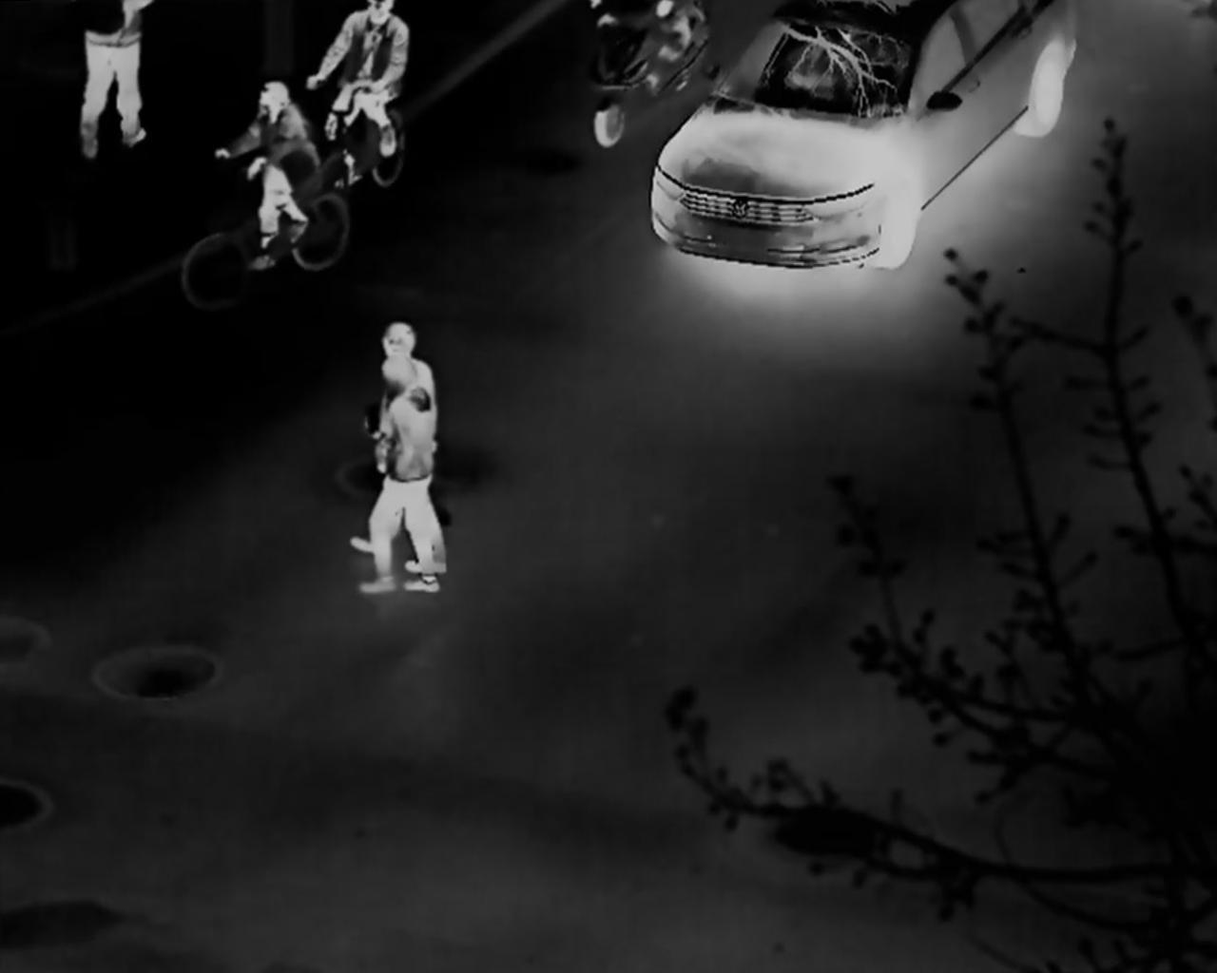person: (355, 350, 439, 595), (216, 78, 320, 271)
